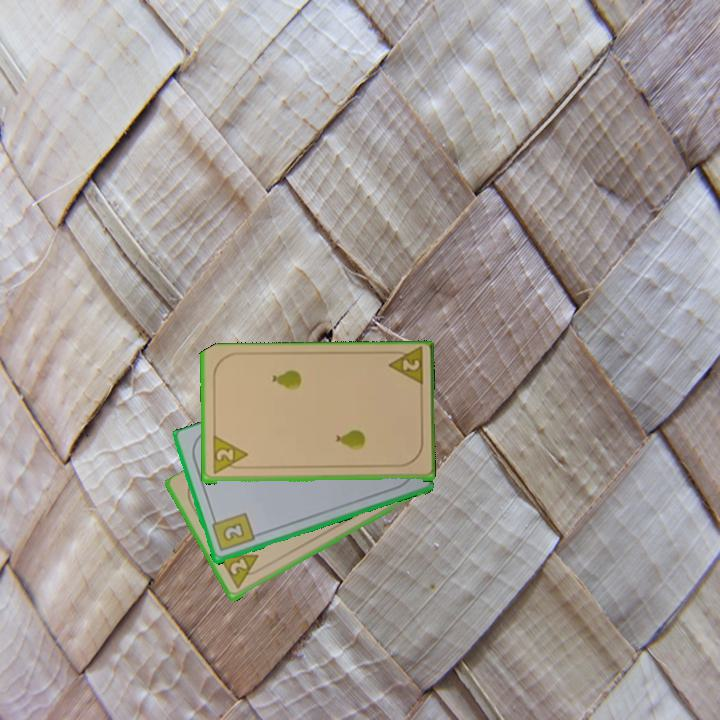2b: (208, 510, 257, 554)
2p: (216, 551, 267, 592), (384, 346, 426, 390), (209, 434, 250, 477)
